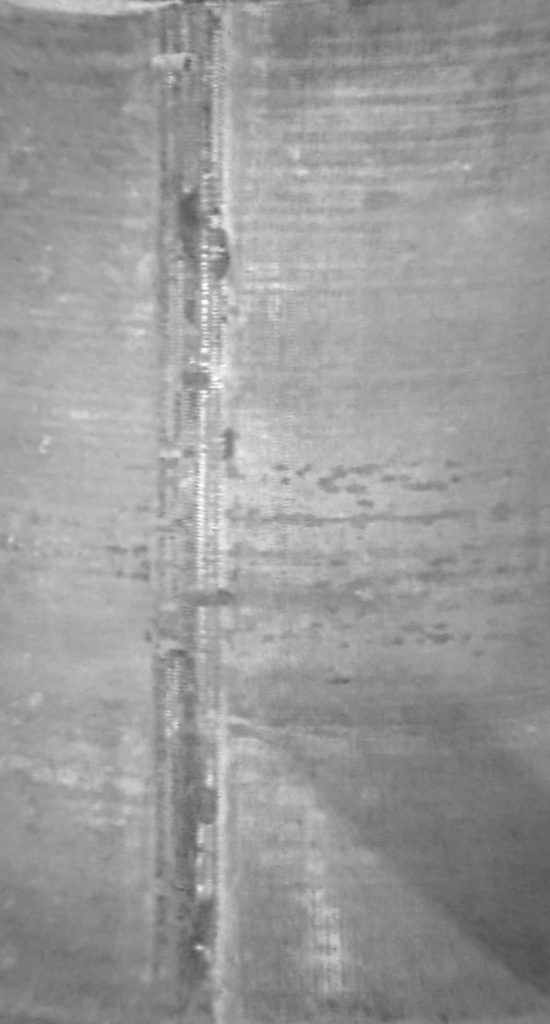splice: (145, 1, 242, 1023)
